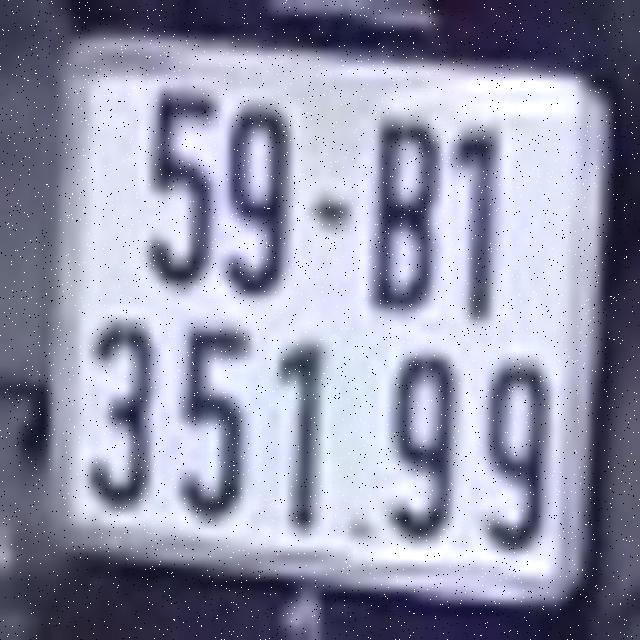1: (448, 117, 506, 322), (278, 339, 322, 531)
3: (89, 319, 152, 507)
5: (147, 85, 216, 286), (181, 324, 248, 521)
9: (224, 96, 290, 296), (483, 352, 548, 552), (389, 347, 454, 539)
B: (372, 111, 440, 314)
